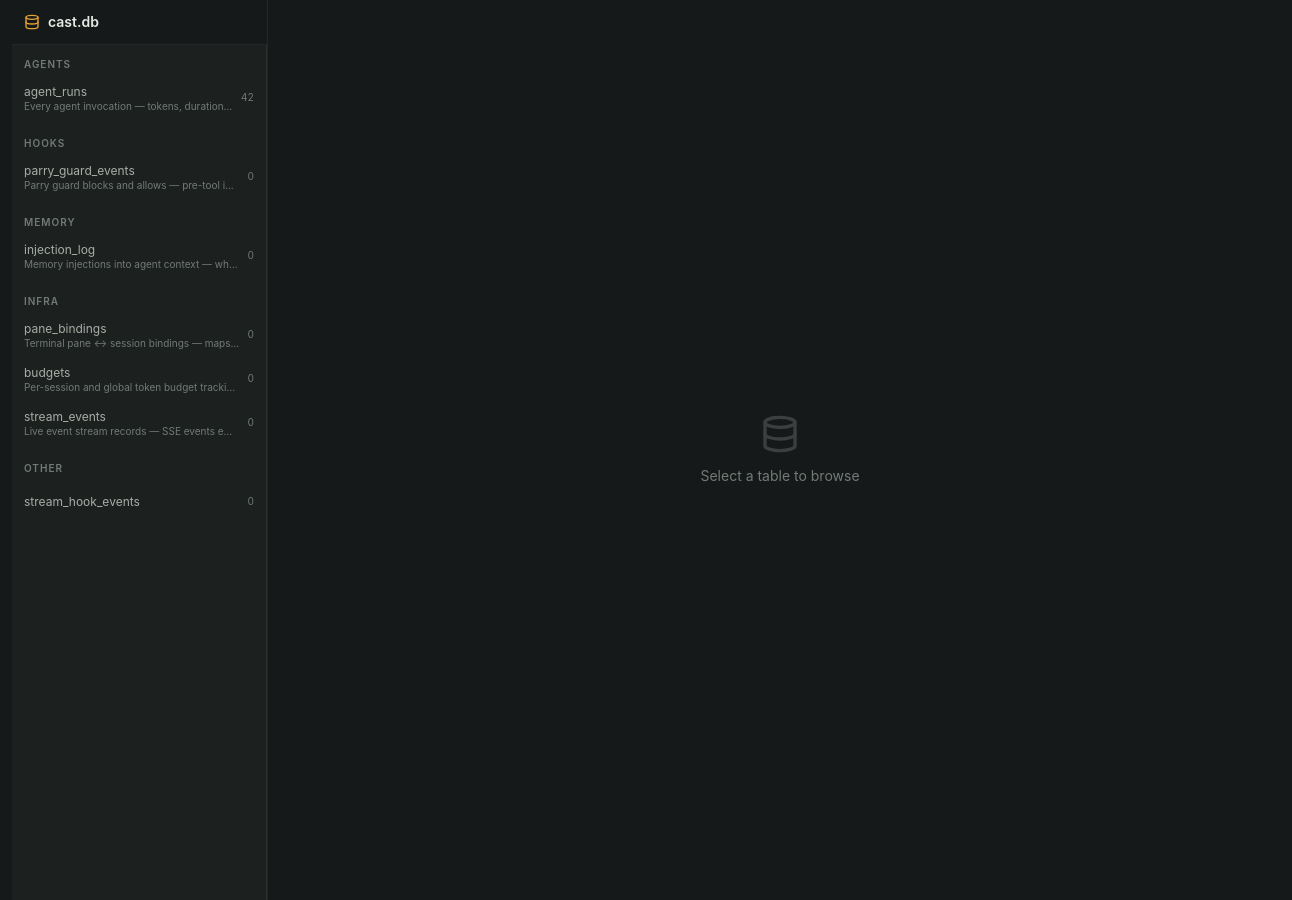
it: DbPage TabSwitcher — keyboard navigation › renders two tabs with correct ARIA roles
Click the button with aria-label "select table agent_runs" at (139, 98), box [12, 76, 266, 120]
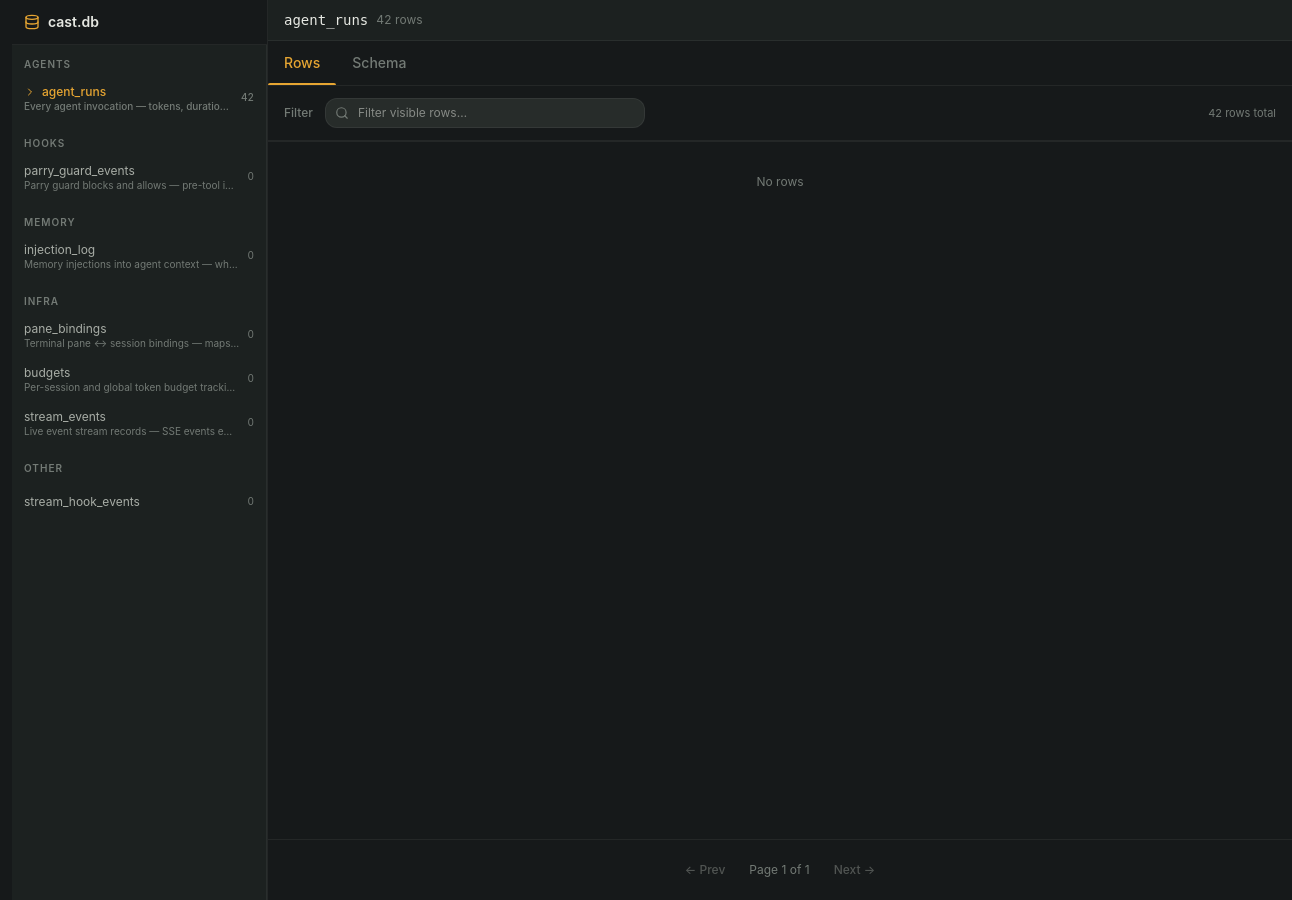
Now the number of tabs is 2, box [268, 41, 336, 85]; [336, 41, 422, 85]
Now the tab "Rows" is shown, box [268, 41, 336, 85]
Now the tab "Schema" is shown, box [336, 41, 422, 85]
